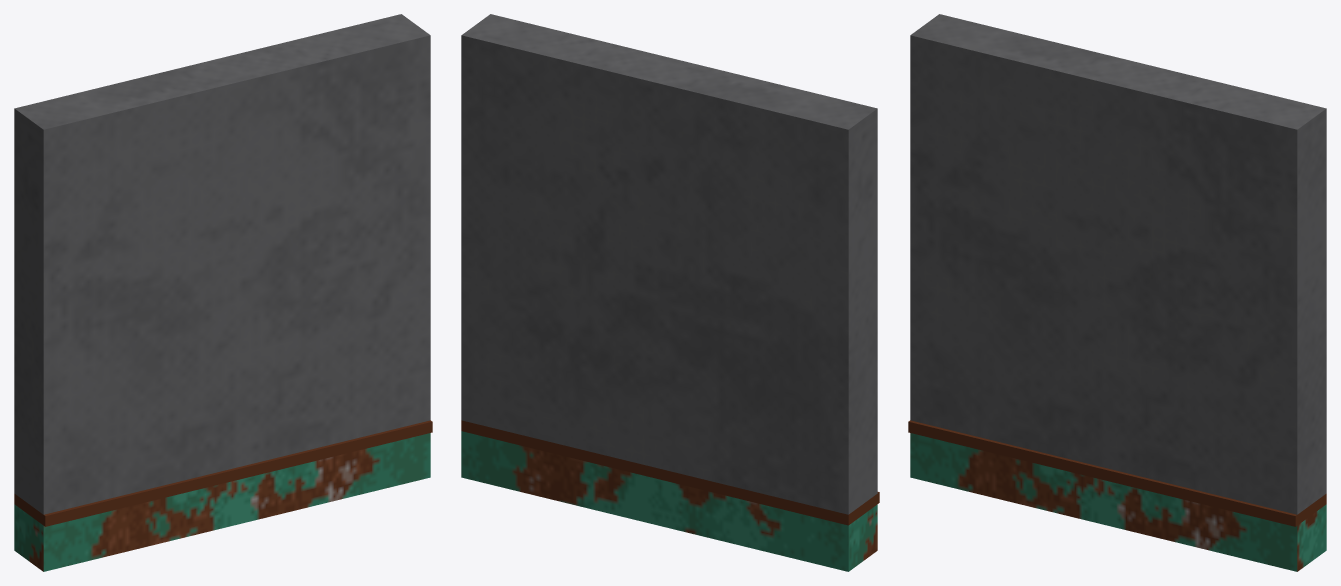
The model's file is General Wall.fbx.
The picture shows the model from 3 angles, left to right: view 1: azimuth 30°, elevation 25°; view 2: azimuth 150°, elevation 25°; view 3: azimuth 330°, elevation 25°; orthographic projection.
Visible parts, largest first — view 1: Cube; view 2: Cube; view 3: Cube.
Boxes of the visible parts, <box> form: Cube: <box>14,14,432,571</box>; Cube: <box>461,14,879,571</box>; Cube: <box>908,14,1326,571</box>.
Bounding box in the file's own units: 370 × 404 × 51.34.
